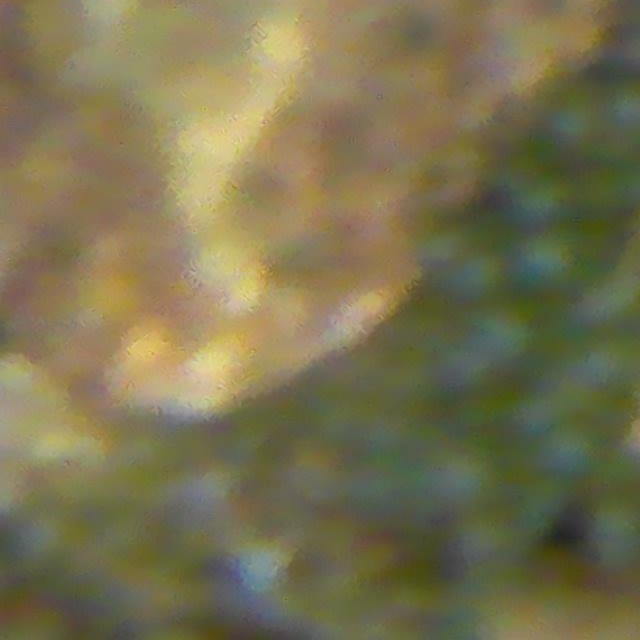SeaGrape: (467, 297, 541, 372), (513, 225, 583, 294), (538, 414, 607, 481), (544, 85, 608, 154), (586, 494, 640, 570), (448, 246, 507, 304)
